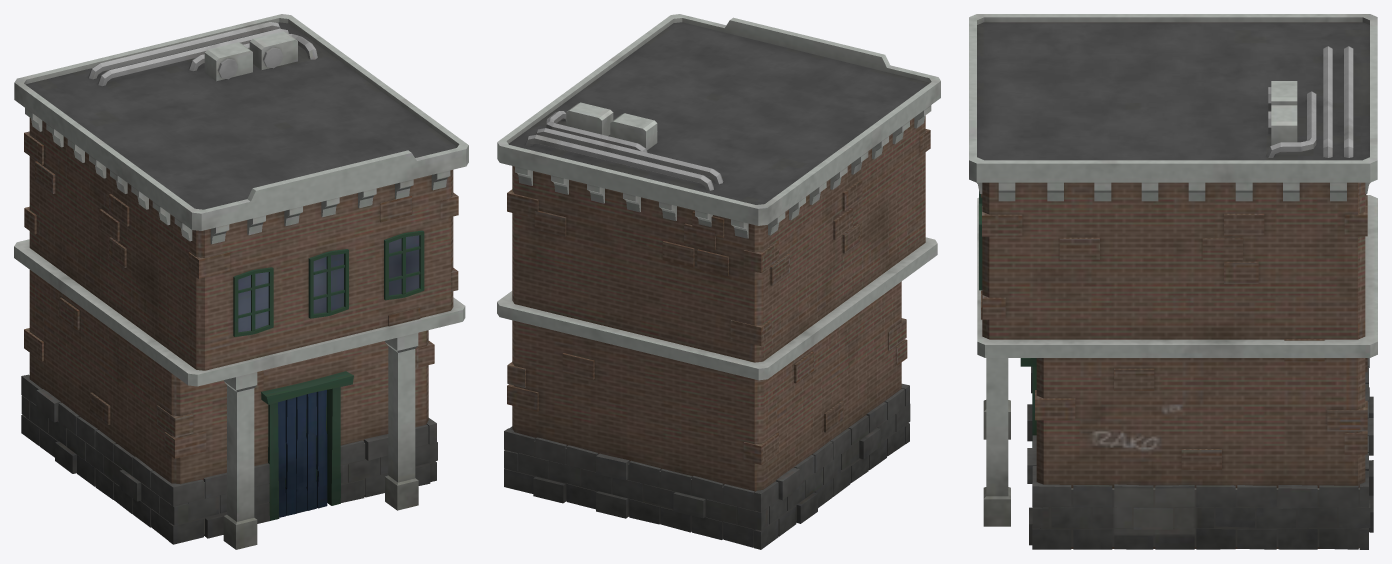
The model's file is building_2Story_Columns.glb.
3 views of the same model, side by side, from view 1: azimuth 30°, elevation 25°; view 2: azimuth 150°, elevation 25°; view 3: azimuth 270°, elevation 25° (orthographic). The views are drawn at different scales.
Visible parts, largest first — view 1: 2Story_Columns_medium; view 2: 2Story_Columns_medium; view 3: 2Story_Columns_medium.
Part boxes in pixels (x1,y1,x2,y2): 2Story_Columns_medium: [14, 14, 468, 549]; 2Story_Columns_medium: [497, 14, 940, 549]; 2Story_Columns_medium: [969, 14, 1377, 549].
Bounding box in the file's own units: 2.16 × 2.77 × 2.49.
Materials: 2 (2 with a texture image).
